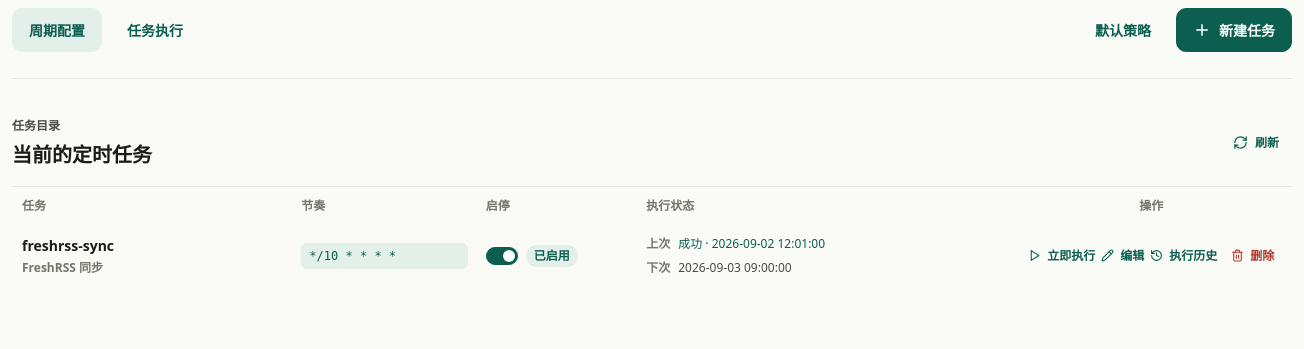
Test: ScheduledJobsPage › toggling the enable switch sends a PATCH and refreshes
This screenshot has width=1304, height=349.
Click the checkbox named "启用 freshrss-sync": (502, 256) top-left (486, 246), bottom-right (518, 264)
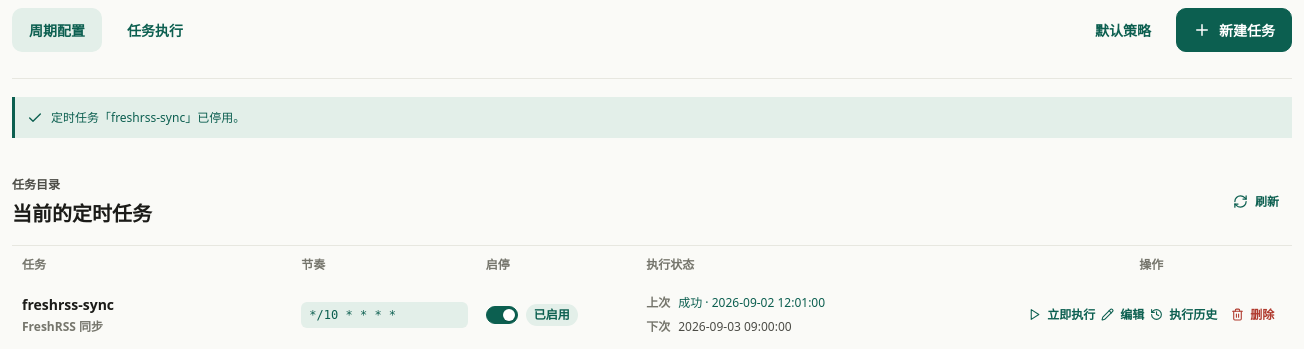
Expected: the text "已停用" is shown, top-left (51, 109), bottom-right (245, 126)
